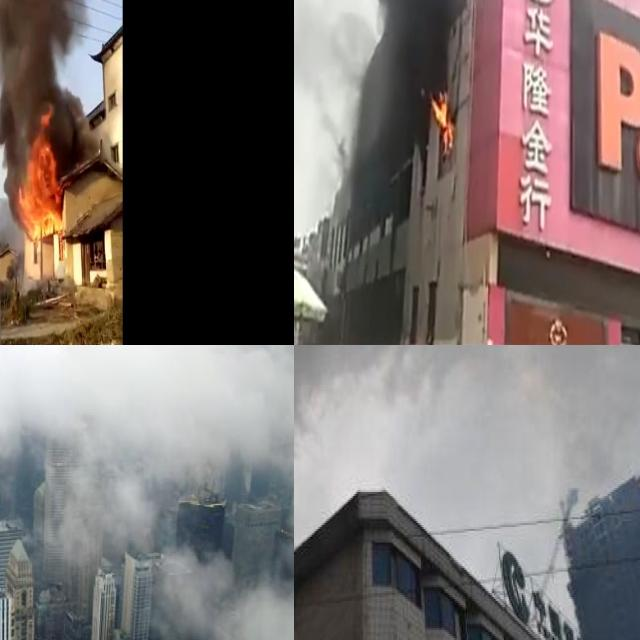fire: (18, 122, 63, 240), (430, 88, 455, 148)
smoke: (294, 345, 640, 582), (294, 0, 464, 162), (0, 0, 110, 174), (56, 456, 158, 556), (156, 551, 228, 640), (231, 596, 294, 640)
